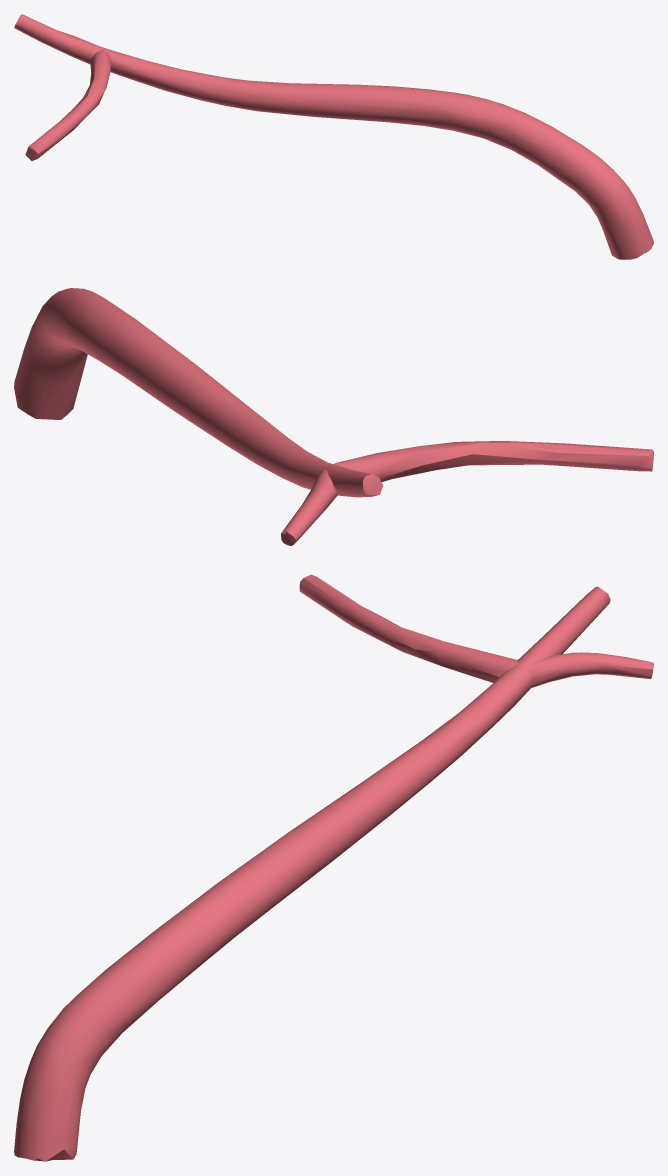
The model's file is fma68673_cx177.glb.
The picture shows the model from 3 angles, top to bottom: view 1: azimuth 30°, elevation 25°; view 2: azimuth 150°, elevation 25°; view 3: azimuth 270°, elevation 25°; orthographic projection. The views are drawn at different scales.
Parts seen in each view (by area): view 1: FMA68673_CX177; view 2: FMA68673_CX177; view 3: FMA68673_CX177.
Boxes of the visible parts, left/top/right/bottom form: FMA68673_CX177: left=14, top=14, right=653, bottom=259; FMA68673_CX177: left=14, top=288, right=653, bottom=545; FMA68673_CX177: left=14, top=574, right=653, bottom=1161.
Size of the model in its own units: 0.0687 by 0.0247 by 0.0501.
